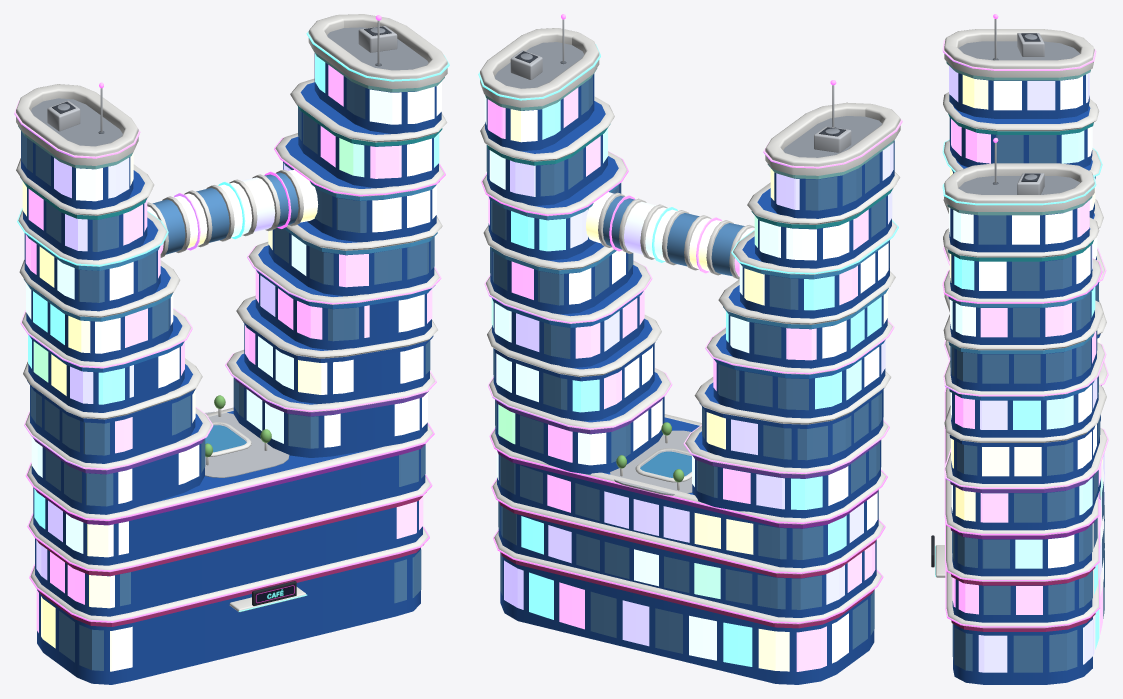
The model's file is predio_u_ondulado_azul.glb.
3 renders of one model, left to right at view 1: azimuth 30°, elevation 25°; view 2: azimuth 150°, elevation 25°; view 3: azimuth 270°, elevation 25°, orthographic. The views are drawn at different scales.
Parts seen in each view (by area): view 1: predio_u_ondulado_azul; view 2: predio_u_ondulado_azul; view 3: predio_u_ondulado_azul.
Part boxes in pixels (x1=…): predio_u_ondulado_azul: x1=14, y1=14, x2=449, y2=684; predio_u_ondulado_azul: x1=478, y1=14, x2=902, y2=684; predio_u_ondulado_azul: x1=931, y1=14, x2=1108, y2=684.
Bounding box in the file's own units: 25.14 × 36.2 × 10.91.
14 materials, 2 textured.
